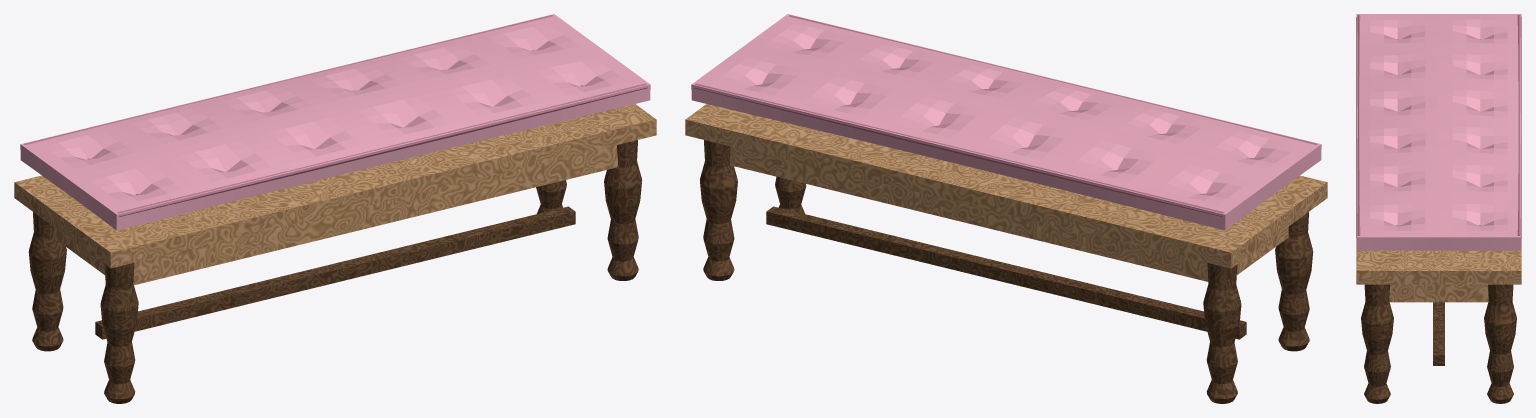
File: bench.glb
The picture shows the model from 3 angles, left to right: view 1: azimuth 30°, elevation 25°; view 2: azimuth 150°, elevation 25°; view 3: azimuth 270°, elevation 25°; orthographic projection. The views are drawn at different scales.
Visible parts, largest first — view 1: bench_hd_cushion, bench_hd_oak, bench_hd_darkwood, bench_hd_button; view 2: bench_hd_cushion, bench_hd_oak, bench_hd_darkwood, bench_hd_button; view 3: bench_hd_cushion, bench_hd_oak, bench_hd_darkwood, bench_hd_button.
Part boxes in pixels (left/top/right/bottom): bench_hd_cushion: left=20, top=14, right=650, bottom=230; bench_hd_oak: left=14, top=104, right=656, bottom=285; bench_hd_darkwood: left=28, top=140, right=641, bottom=403; bench_hd_button: left=24, top=15, right=647, bottom=216; bench_hd_cushion: left=691, top=14, right=1321, bottom=230; bench_hd_oak: left=685, top=104, right=1327, bottom=281; bench_hd_darkwood: left=700, top=140, right=1313, bottom=403; bench_hd_button: left=694, top=15, right=1317, bottom=216; bench_hd_cushion: left=1356, top=14, right=1521, bottom=250; bench_hd_oak: left=1356, top=242, right=1521, bottom=302; bench_hd_darkwood: left=1361, top=284, right=1516, bottom=403; bench_hd_button: left=1356, top=15, right=1521, bottom=237.
Size of the model in its own units: 1.8 by 0.64 by 0.552.
Materials: 4 (2 with a texture image).
